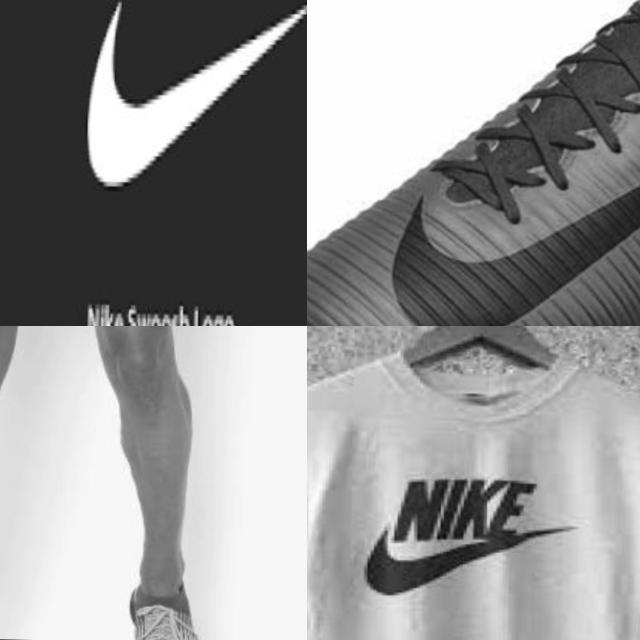NIKE_original: (371, 57, 640, 326), (50, 0, 307, 214), (328, 453, 608, 616)
